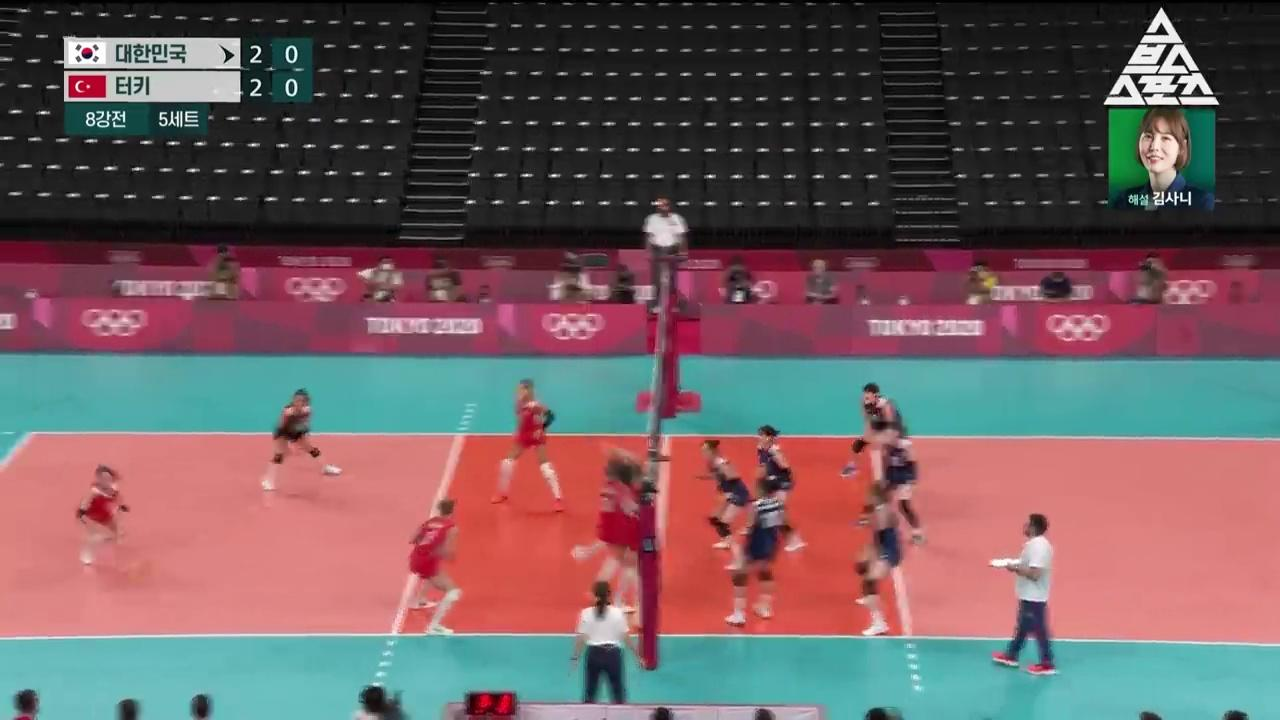ball: (123, 557, 150, 584)
player: (491, 380, 564, 512), (573, 442, 633, 599), (724, 477, 784, 625), (841, 383, 919, 493), (737, 426, 804, 551), (857, 427, 926, 546), (403, 499, 463, 634), (261, 389, 341, 490), (696, 440, 751, 571), (855, 486, 901, 636), (613, 464, 649, 631), (77, 465, 130, 564)
referee: (571, 581, 646, 704), (643, 199, 688, 312)
